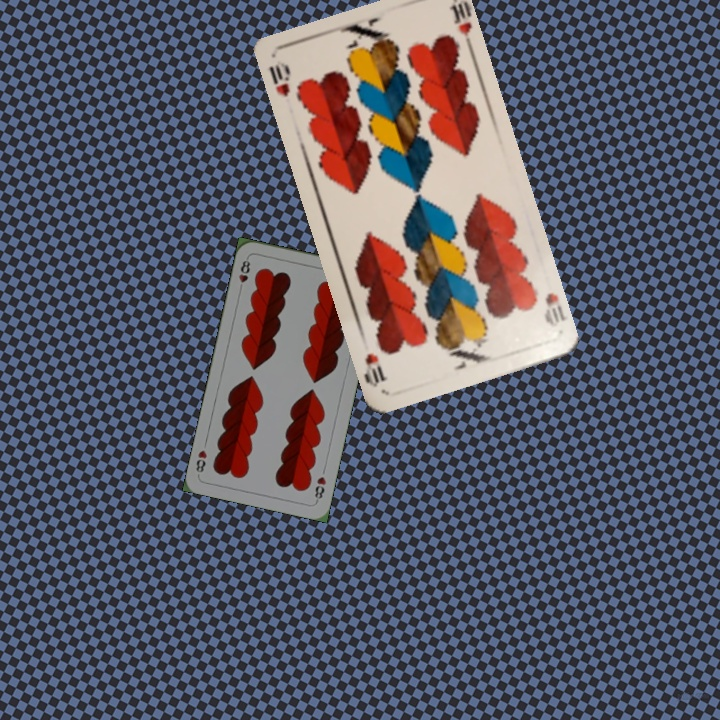H10: (265, 56, 293, 100), (540, 288, 567, 330)
H8: (235, 254, 253, 294), (311, 472, 329, 504)
